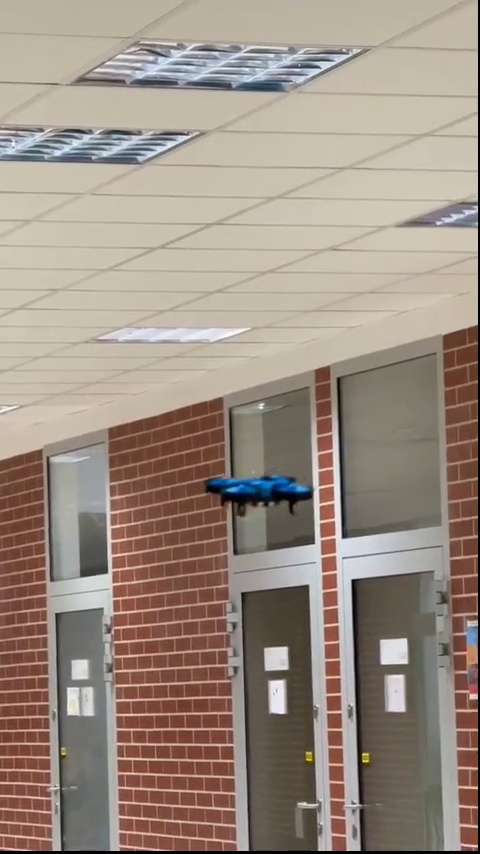drone: (204, 468, 310, 510)
